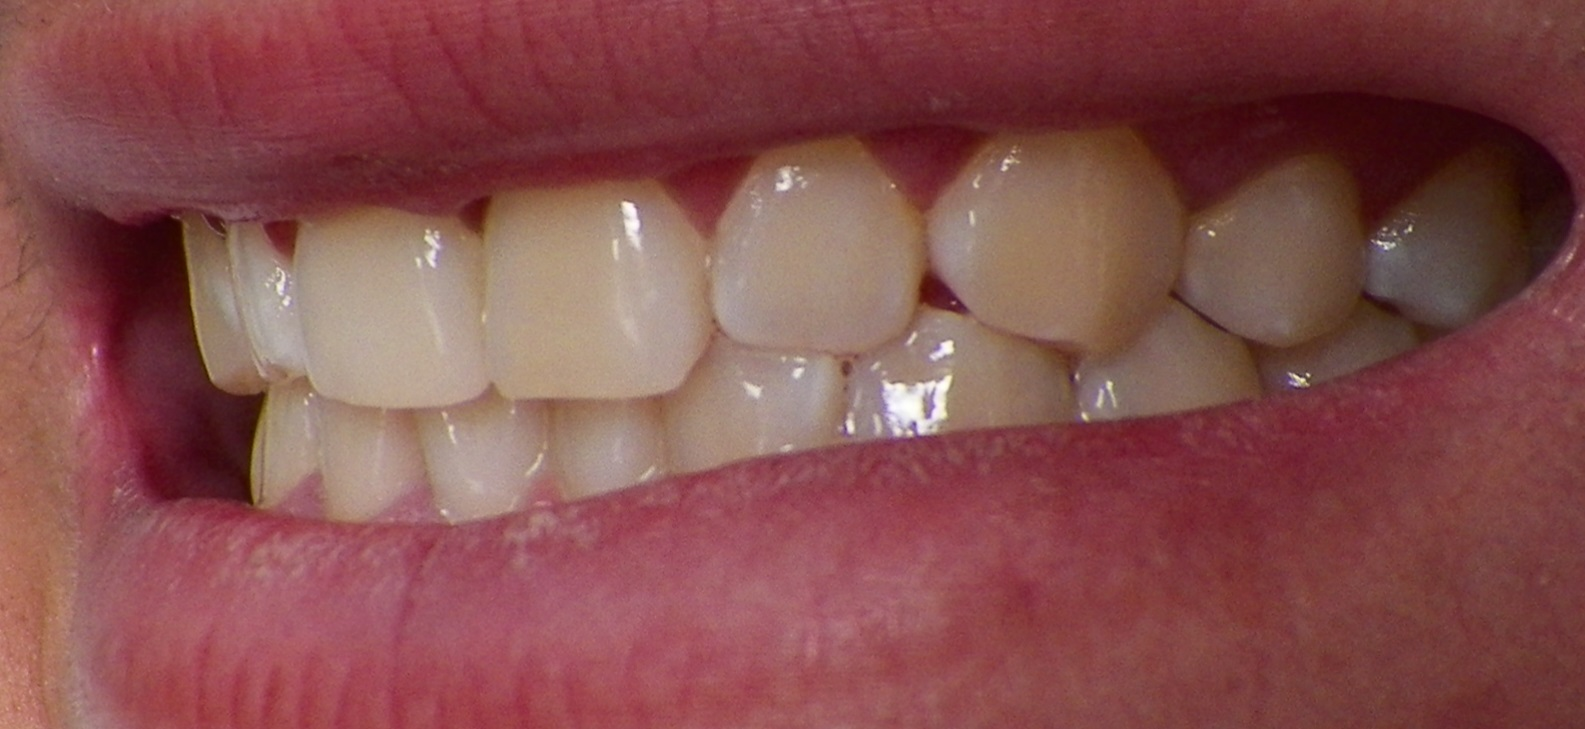boca: (178, 129, 1523, 533)
